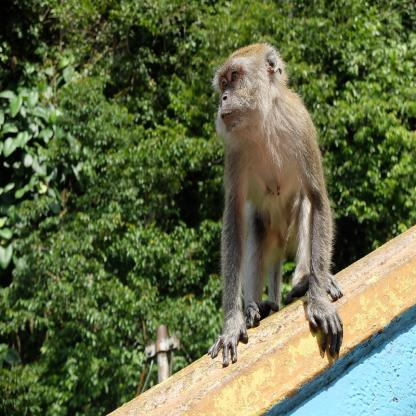monkey: (206, 40, 343, 368)
